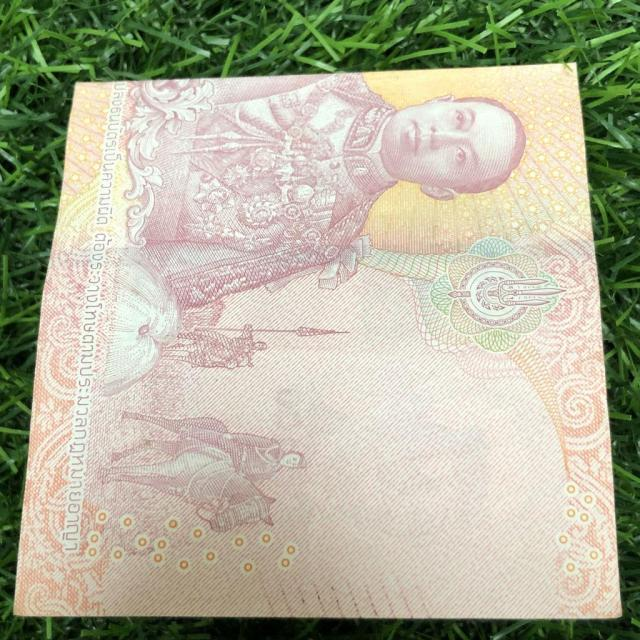THAI100: (14, 65, 621, 618)
